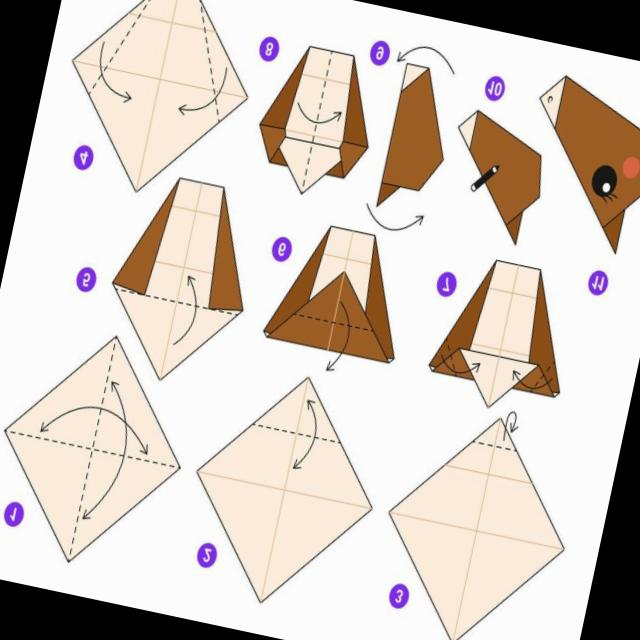arrow: (82, 381, 128, 519), (41, 405, 148, 454), (179, 67, 228, 115), (99, 40, 131, 102), (293, 399, 317, 468), (327, 301, 351, 370), (174, 275, 197, 344), (398, 46, 454, 74), (366, 203, 423, 230), (297, 102, 341, 123), (440, 353, 480, 373), (471, 164, 499, 190), (513, 370, 551, 389), (504, 411, 518, 439)
fold-line: (253, 370, 314, 608), (63, 332, 122, 568), (446, 413, 505, 640), (126, 0, 188, 200), (154, 174, 207, 383), (384, 503, 570, 558), (0, 421, 186, 475), (193, 463, 380, 516), (69, 52, 254, 105), (81, 0, 162, 102), (482, 256, 526, 413), (296, 42, 336, 196), (189, 0, 228, 128), (322, 218, 358, 356), (110, 283, 244, 320), (432, 456, 538, 490), (118, 4, 222, 38), (242, 418, 345, 447), (288, 307, 378, 336), (458, 432, 528, 458), (154, 251, 214, 280), (298, 66, 352, 94), (526, 355, 563, 395), (281, 123, 342, 147), (468, 338, 532, 360), (168, 199, 220, 224), (440, 329, 464, 380), (486, 281, 538, 304), (324, 245, 373, 269)
